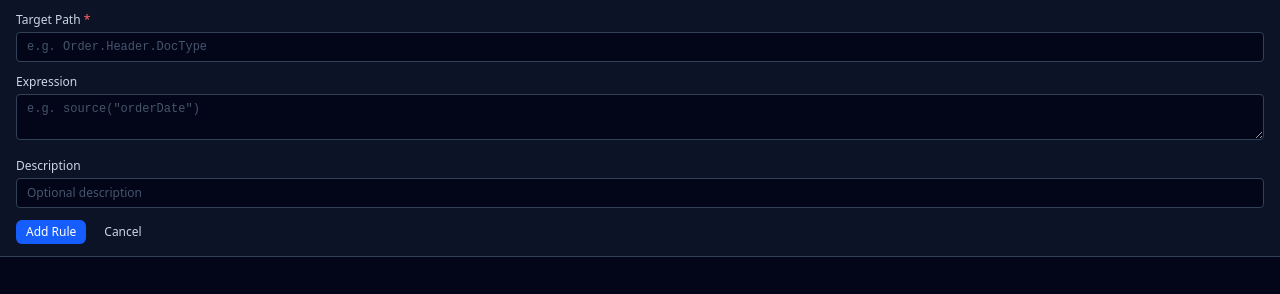
Test: RuleForm › shows validation error when target is empty
This screenshot has width=1280, height=294.
// Submit without filling target
Click the button with test id "rule-form-save": [51, 232] box [16,220,86,244]
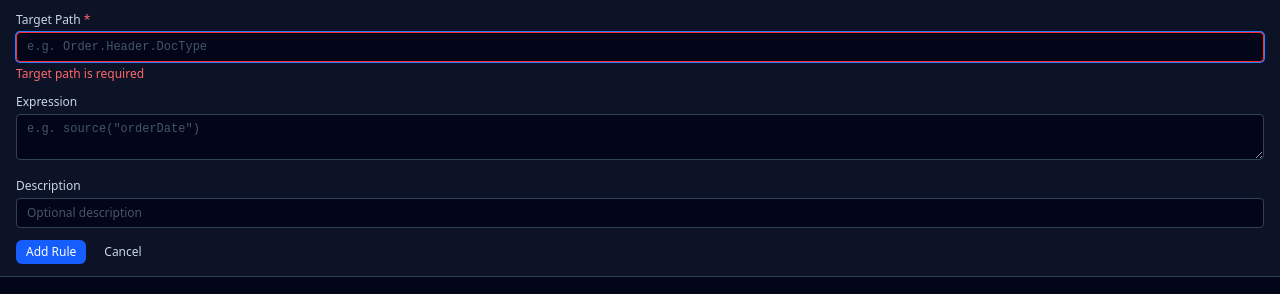
Expected: the text "Target path is required" is shown, [16,65,144,82]
